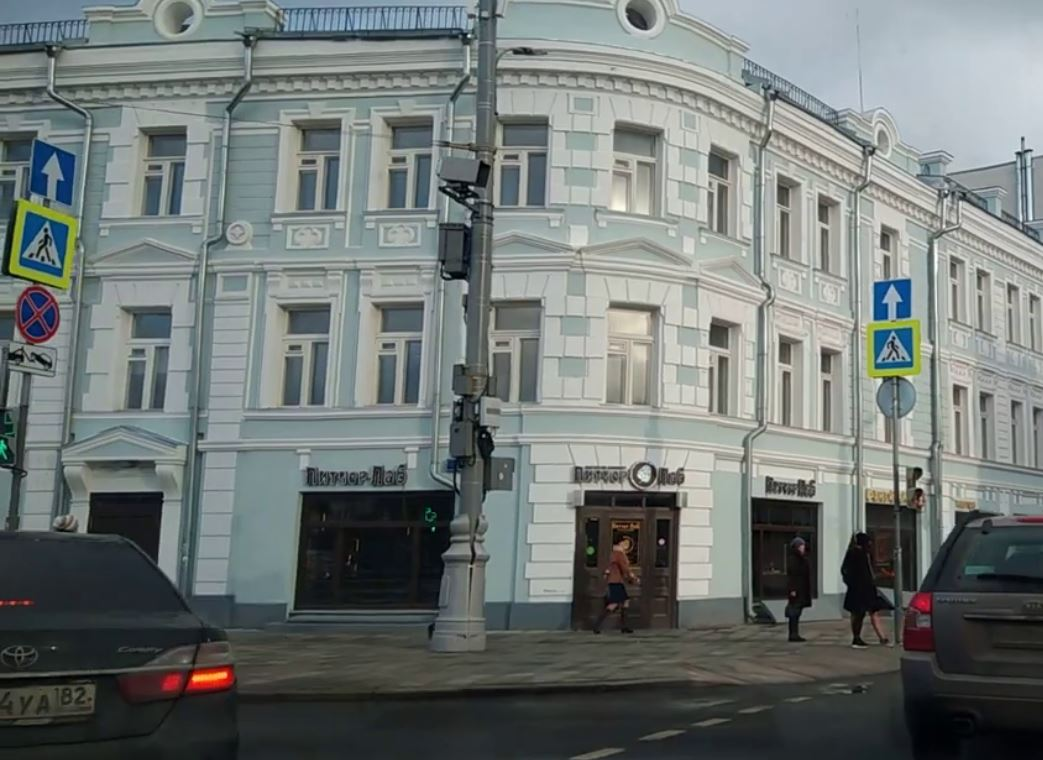Yaya Gecidi: (24, 208, 71, 275), (873, 326, 915, 367)
